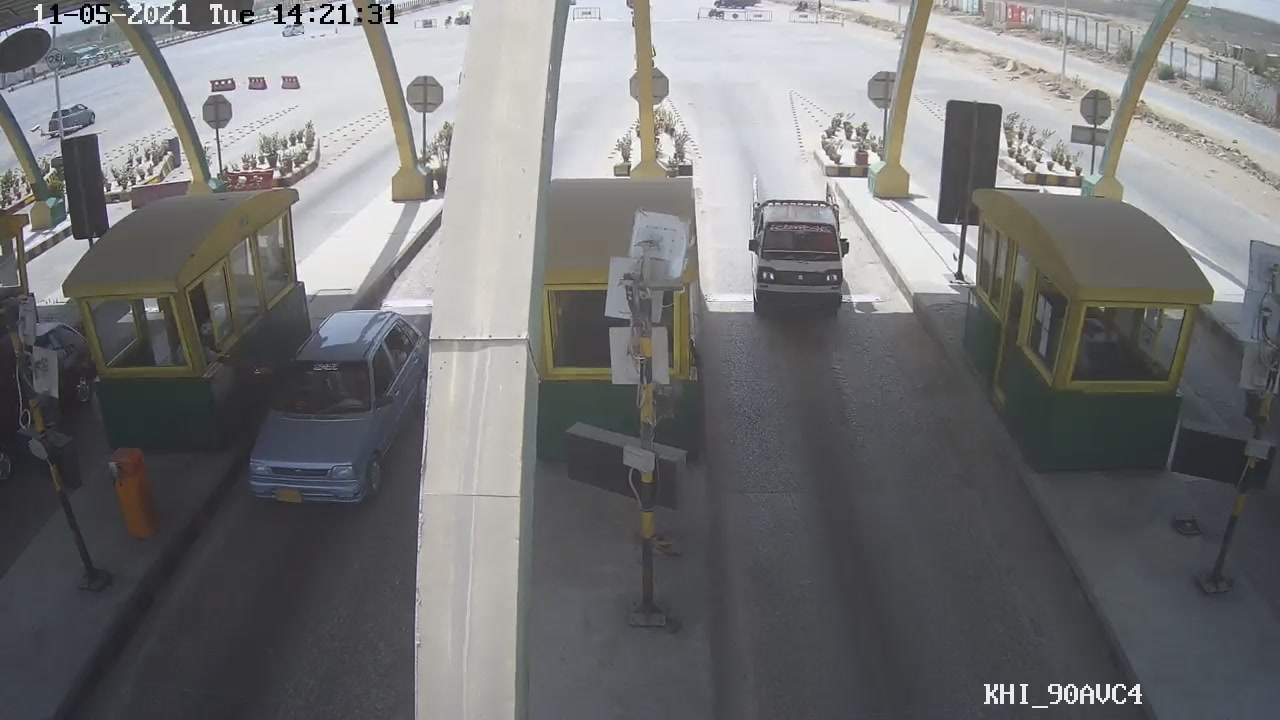F1: (739, 157, 851, 327)
